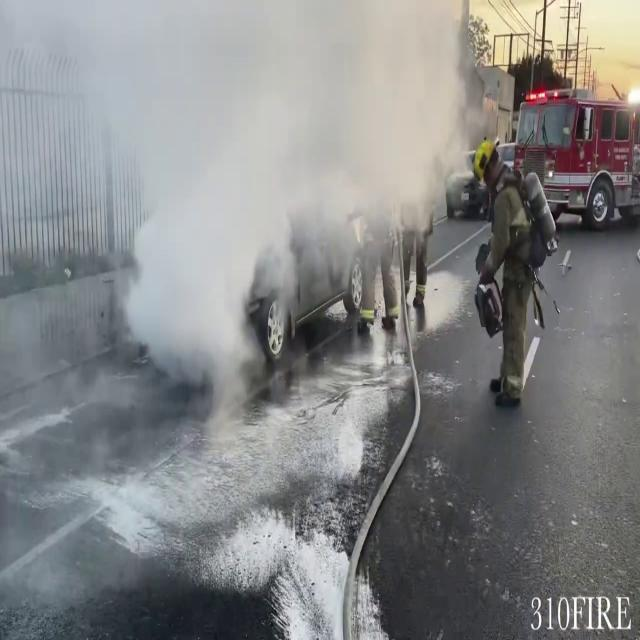Smoke: (87, 0, 487, 419)
